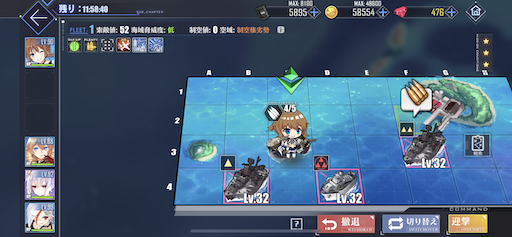lv1: (220, 155, 269, 205)
lv2: (399, 124, 447, 167)
lv3: (313, 156, 363, 203)
